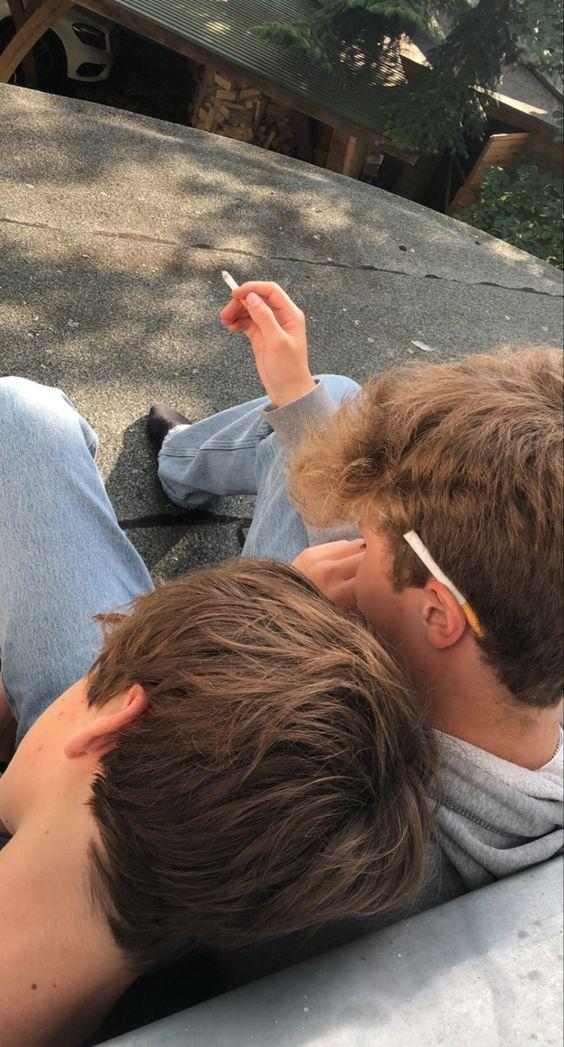cigarette: (403, 530, 488, 638), (222, 270, 248, 310)
